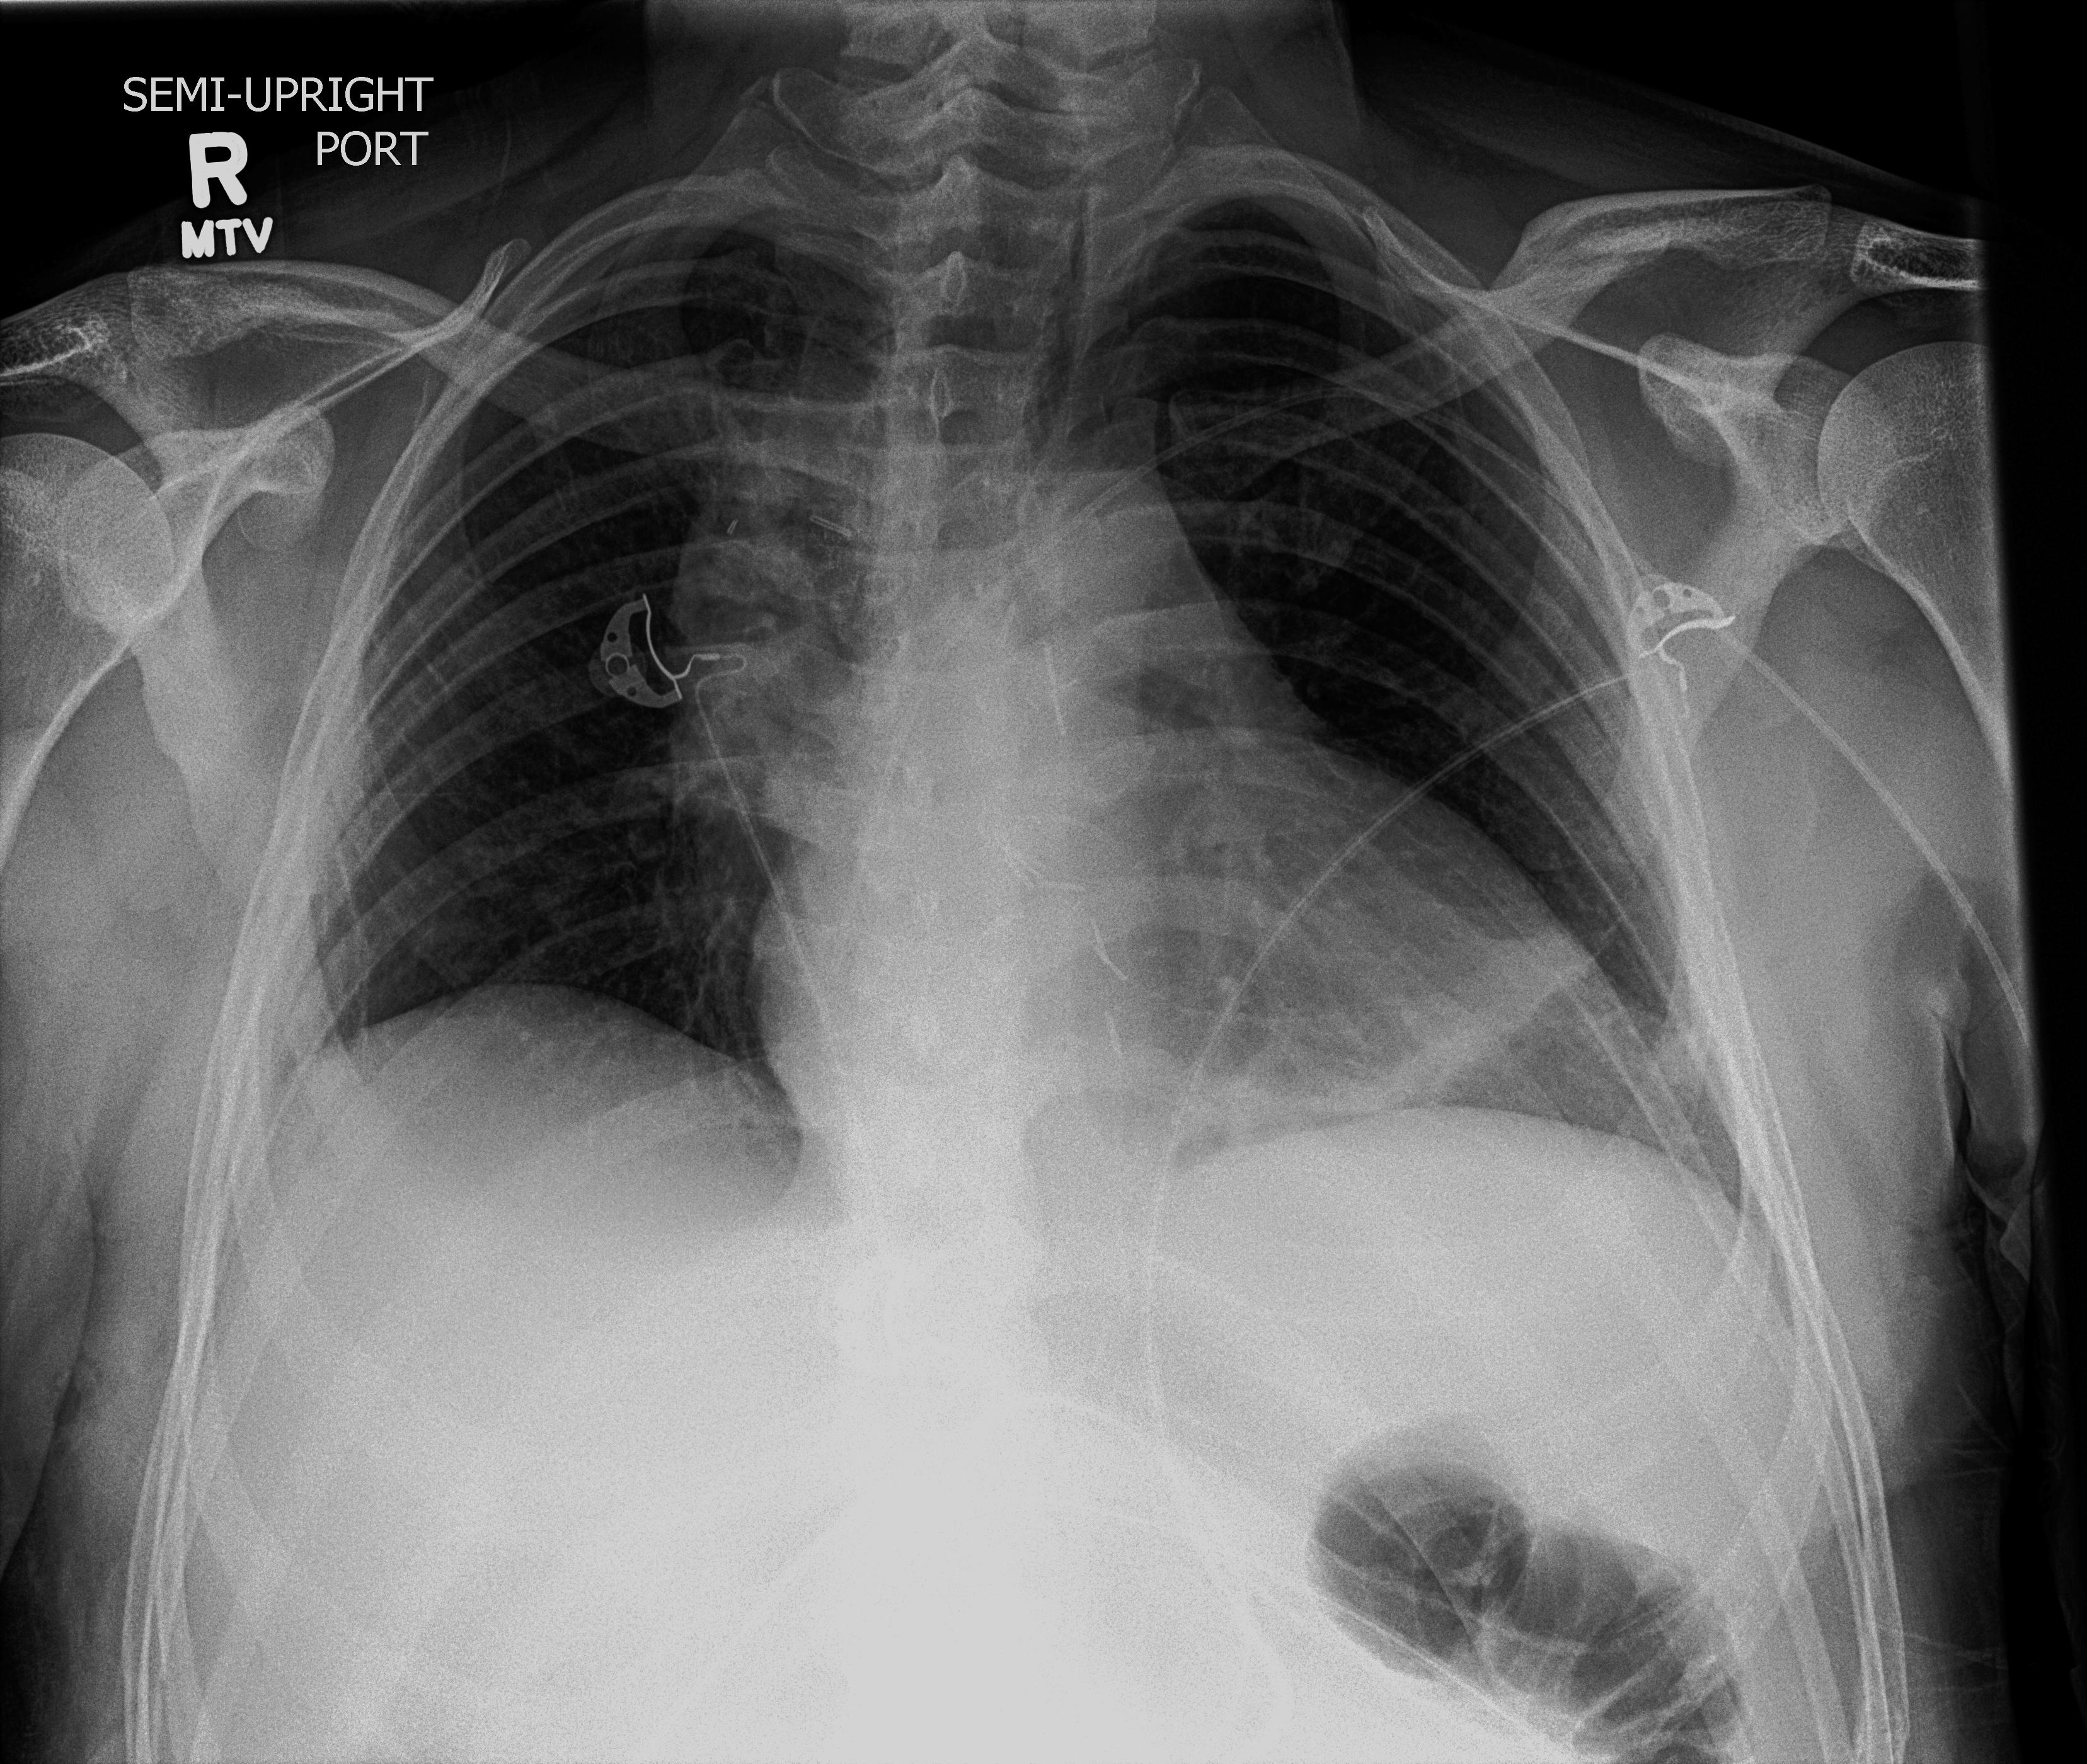Pleural Effusion: (154, 990, 620, 1547)
